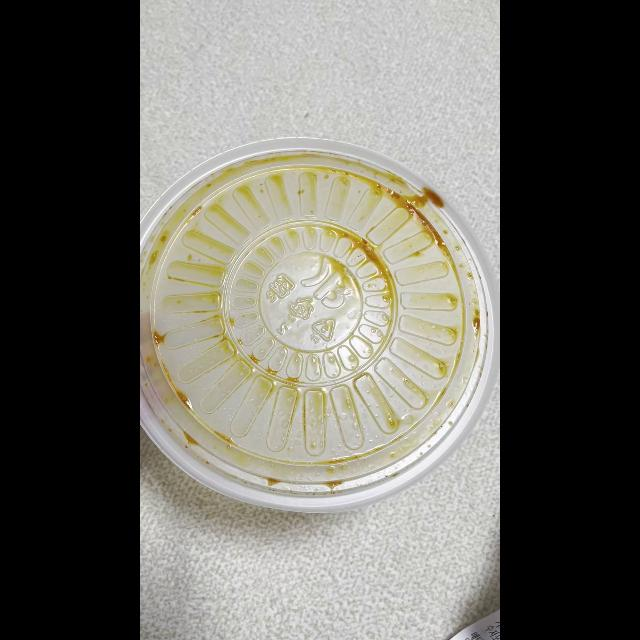dirty: (140, 136, 498, 507)
